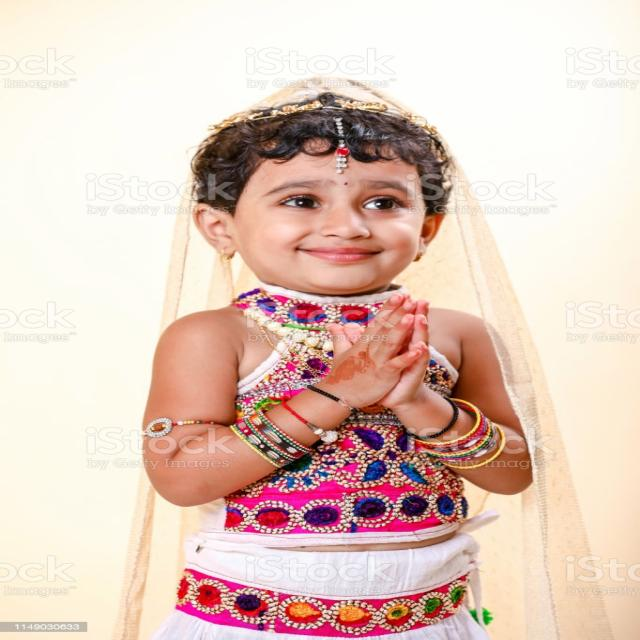child: (94, 78, 544, 640)
